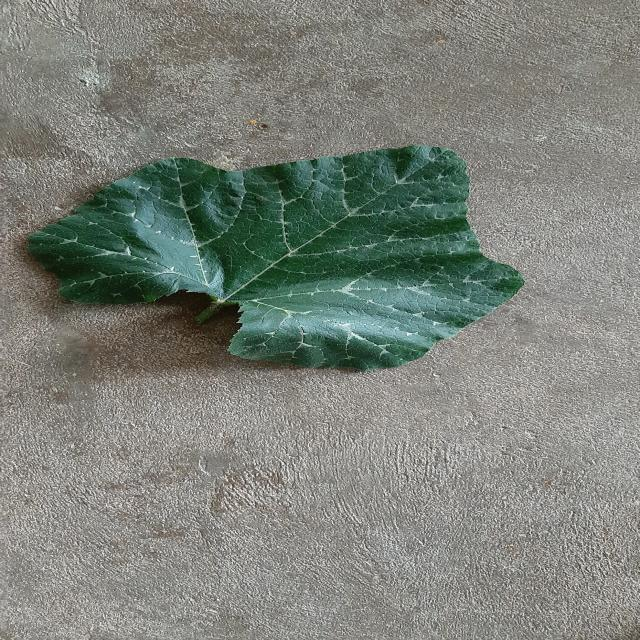pumpkin: (30, 146, 523, 370)
